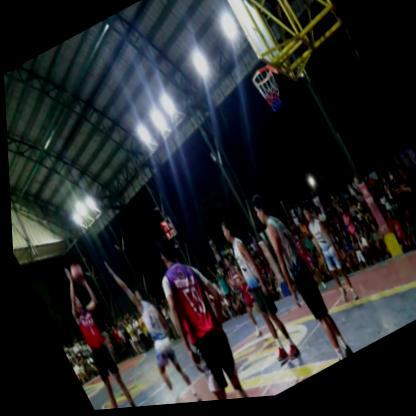basketball: (58, 255, 88, 293)
rim: (239, 52, 300, 132)
